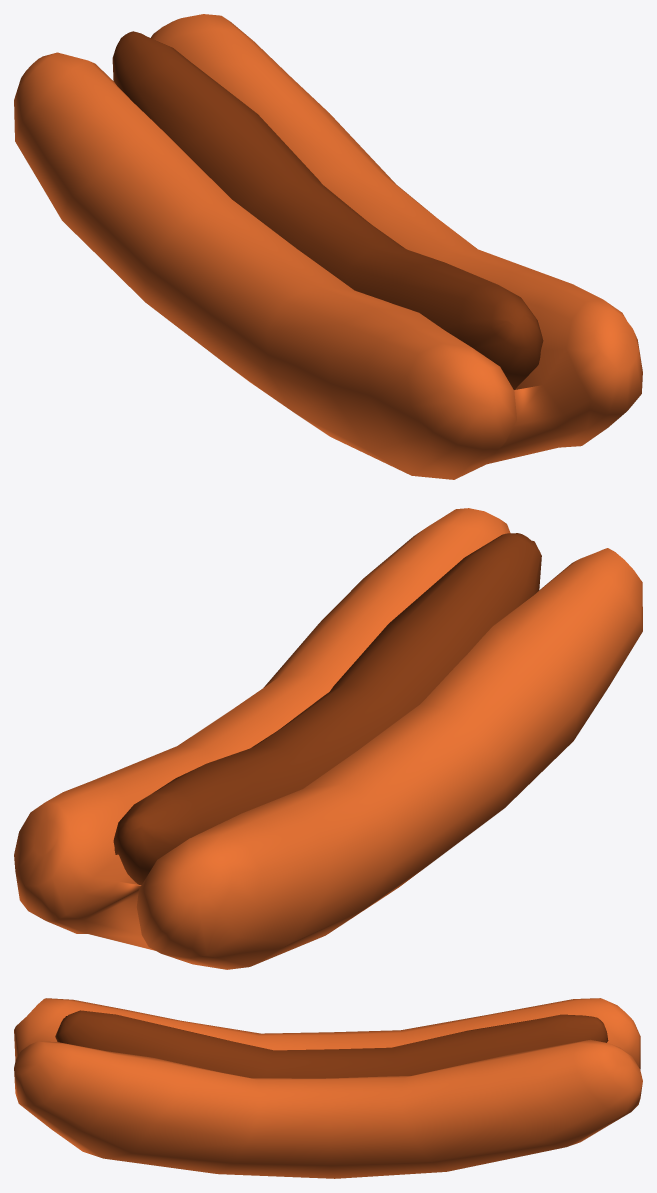
File: HotDogSmooth 1.fbx
3 views of the same model, one above another, from view 1: azimuth 30°, elevation 25°; view 2: azimuth 150°, elevation 25°; view 3: azimuth 270°, elevation 25° (orthographic). The views are drawn at different scales.
Parts seen in each view (by area): view 1: Banana.003, Banana.002; view 2: Banana.003, Banana.002; view 3: Banana.003, Banana.002.
Boxes of the visible parts, x1,y1,x2,y2 form: Banana.003: (14,14,642,479); Banana.002: (112,31,543,389); Banana.003: (14,508,642,969); Banana.002: (113,533,541,885); Banana.003: (14,998,642,1178); Banana.002: (55,1010,608,1078).
Size of the model in its own units: 41.91 by 31.18 by 126.
